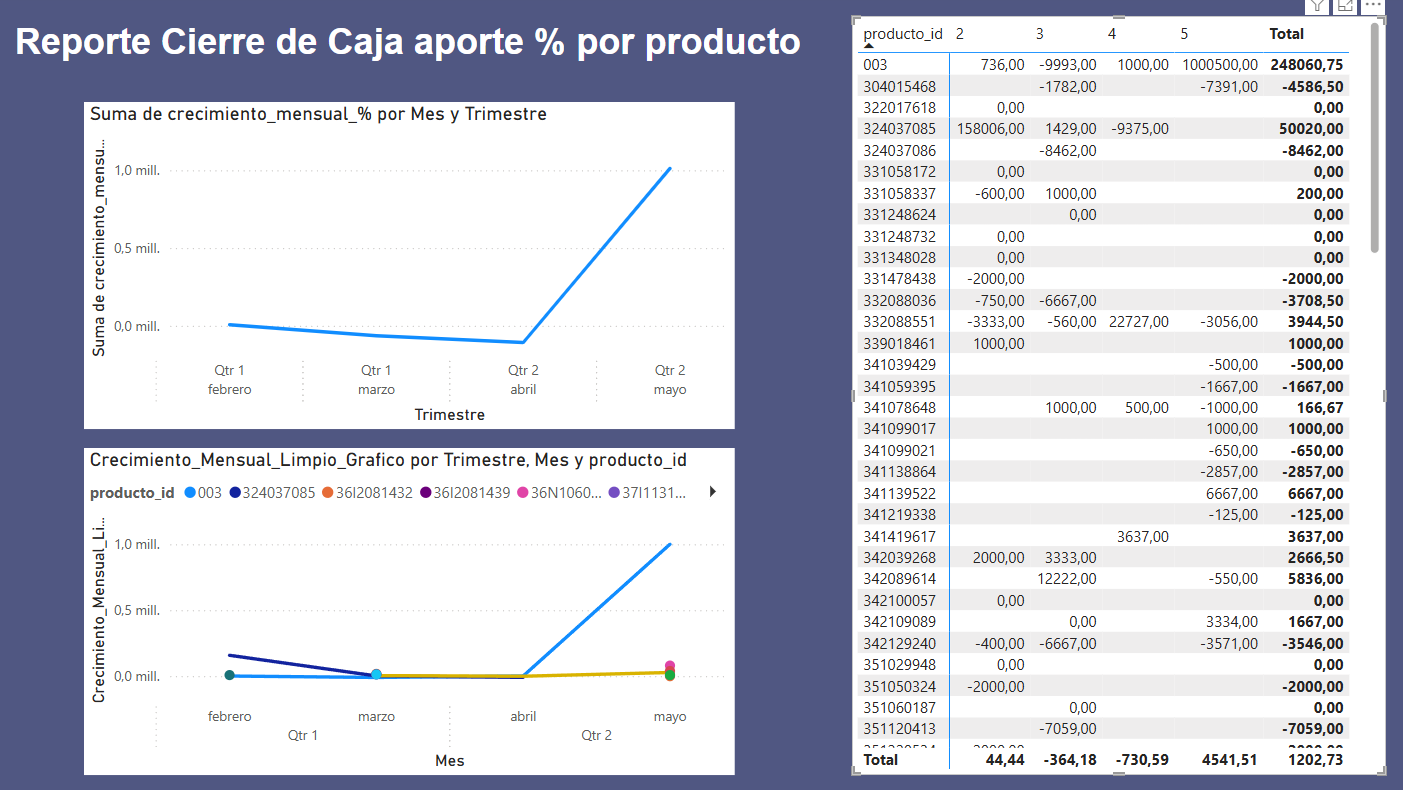

The page's visual inventory and layout, read from the dashboard file:
{"tool":"powerbi","page":{"name":"Página 5","canvas":[1280,720],"ordinal":3},"visuals":[{"type":"lineChart","fields":{"Category":["kpi4_ventas_producto_mes.Fecha Completa.Variación.Jerarquía de fechas.Mes","kpi4_ventas_producto_mes.Fecha Completa.Variación.Jerarquía de fechas.Trimestre"],"Y":["Sum(kpi4_ventas_producto_mes.crecimiento_mensual_%)"]},"box":[88.3,95,576.7,290],"z":0},{"type":"lineChart","fields":{"Series":["kpi4_ventas_producto_mes.producto_id"],"Category":["kpi4_ventas_producto_mes.Fecha Completa.Variación.Jerarquía de fechas.Trimestre","kpi4_ventas_producto_mes.Fecha Completa.Variación.Jerarquía de fechas.Mes"],"Y":["kpi4_ventas_producto_mes.Crecimiento_Mensual_Limpio_Grafico"]},"box":[88.3,401.7,576.7,290],"z":1000},{"type":"pivotTable","fields":{"Rows":["kpi4_ventas_producto_mes.producto_id"],"Columns":["kpi4_ventas_producto_mes.mes"],"Values":["Avg(kpi4_ventas_producto_mes.crecimiento_mensual_%)"]},"box":[770,18.3,473.3,673.3],"z":2000},{"type":"textbox","box":[11.7,18.3,728.3,103.3],"z":2001}]}

Visuals, with their boxes in screenshot pixels (x1, y1, x2, y2), scaled from the page's 1280x720 canvas onto the 1403x790 screenshot:
lineChart - kpi4_ventas_producto_mes.Fecha Completa.Variación.Jerarquía de fechas.Mes x kpi4_ventas_producto_mes.Fecha Completa.Variación.Jerarquía de fechas.Trimestre: [x1=97, y1=104, x2=729, y2=422]
lineChart - kpi4_ventas_producto_mes.producto_id x kpi4_ventas_producto_mes.Fecha Completa.Variación.Jerarquía de fechas.Trimestre: [x1=97, y1=441, x2=729, y2=759]
pivotTable - kpi4_ventas_producto_mes.producto_id x kpi4_ventas_producto_mes.mes: [x1=844, y1=20, x2=1363, y2=759]
textbox: [x1=13, y1=20, x2=811, y2=133]
